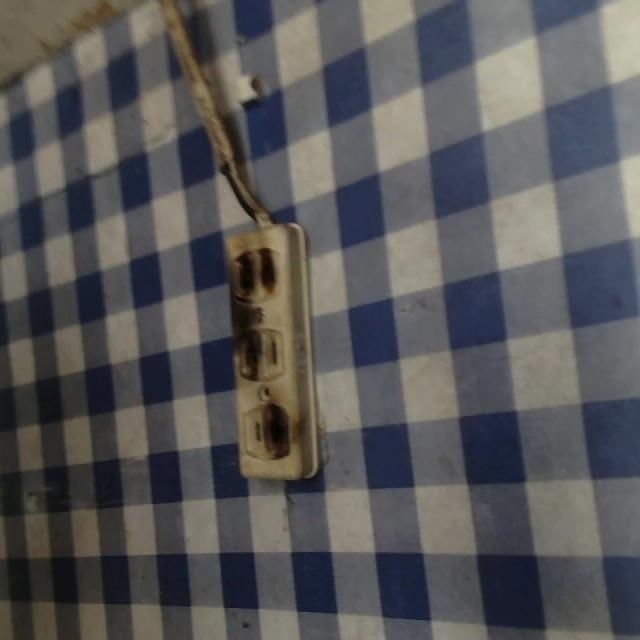-: (230, 246, 282, 306), (233, 323, 266, 384), (261, 401, 292, 463)
